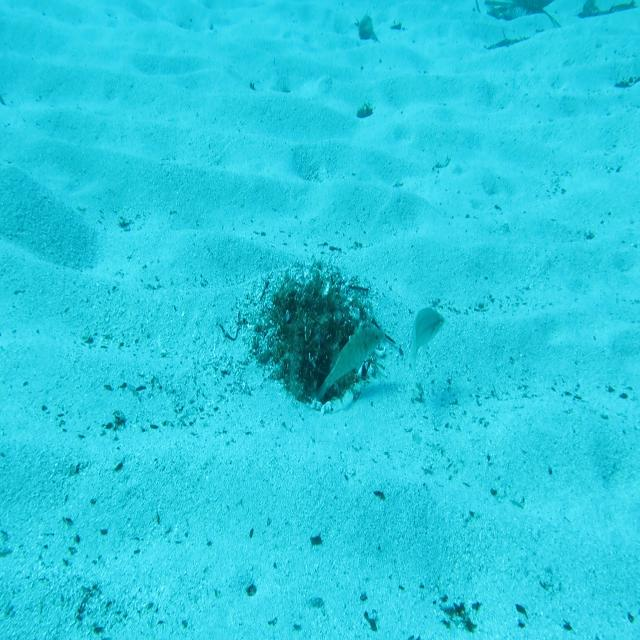MAF: (311, 315, 388, 413)
female: (406, 303, 448, 375)
nest: (247, 240, 390, 403)
